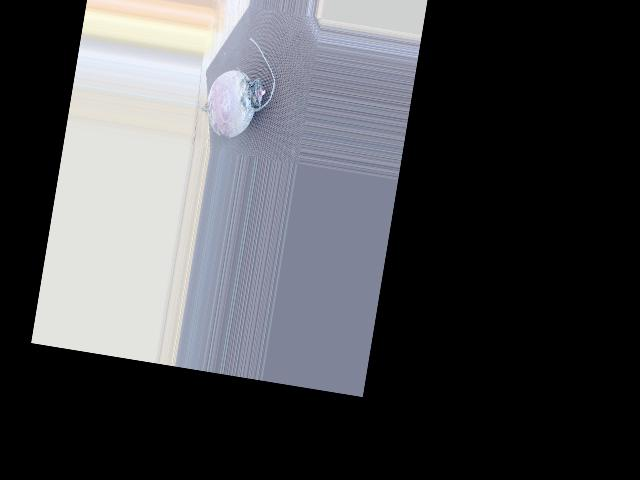beet: (190, 31, 282, 144)
